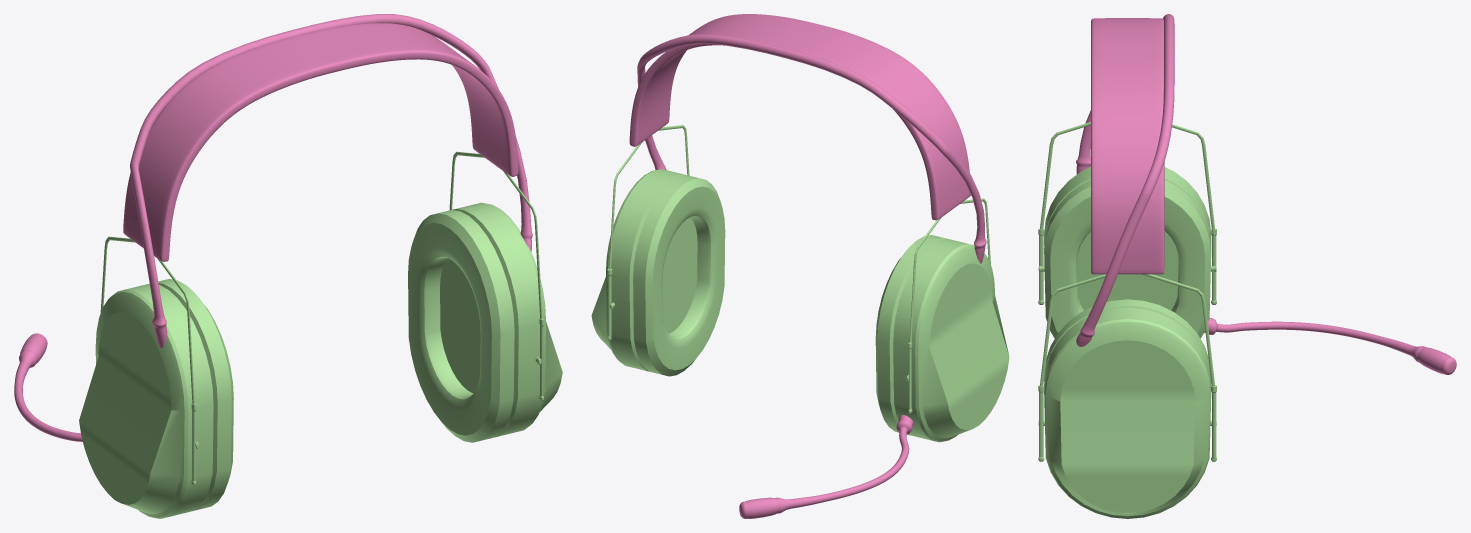
File: comtac2.fbx
The picture shows the model from 3 angles, left to right: view 1: azimuth 30°, elevation 25°; view 2: azimuth 150°, elevation 25°; view 3: azimuth 270°, elevation 25°; orthographic projection. The views are drawn at different scales.
Visible parts, largest first — view 1: Plane, Plane.002; view 2: Plane, Plane.002; view 3: Plane, Plane.002.
Part boxes in pixels (x1=…): Plane: x1=79, y1=151, x2=562, y2=518; Plane.002: x1=14, y1=14, x2=532, y2=441; Plane: x1=591, y1=125, x2=1009, y2=442; Plane.002: x1=629, y1=14, x2=986, y2=518; Plane: x1=1038, y1=122, x2=1216, y2=518; Plane.002: x1=1076, y1=14, x2=1456, y2=374.
Bounding box in the file's own units: 150 × 158 × 155.
